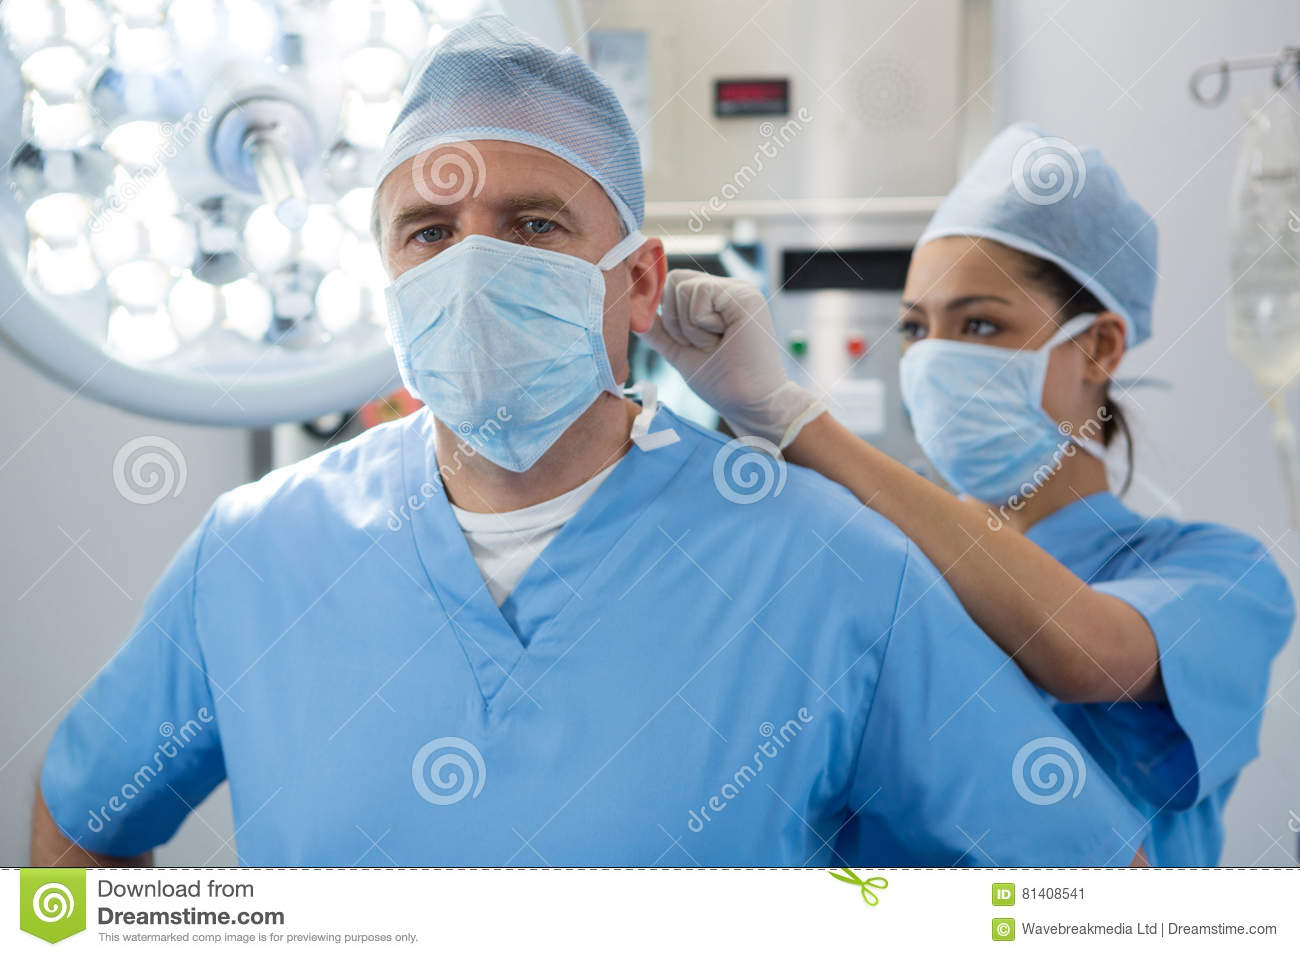mask: (369, 255, 617, 489), (882, 346, 1073, 496)
